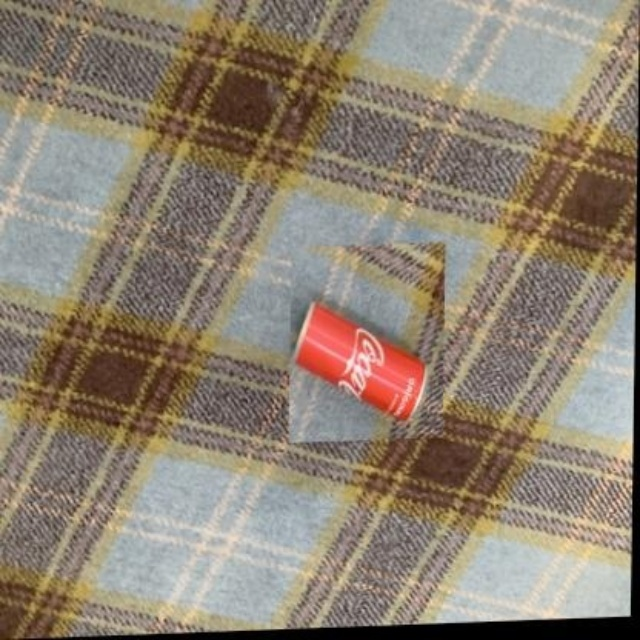trash: (295, 302, 423, 417)
